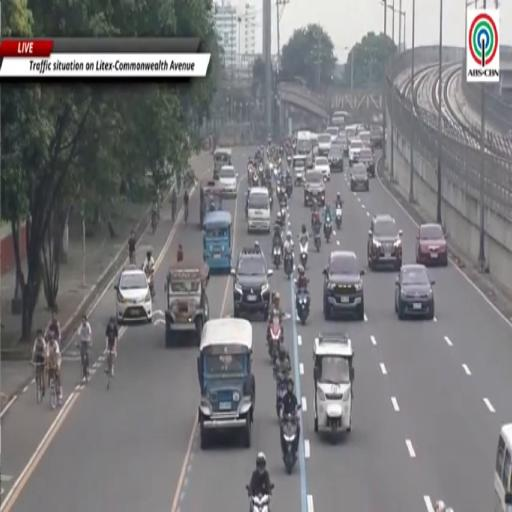car: (231, 247, 272, 321), (324, 250, 364, 319), (114, 266, 152, 323), (395, 264, 434, 319), (367, 215, 402, 269), (416, 223, 448, 265), (248, 187, 270, 232), (304, 170, 325, 206), (219, 166, 237, 197), (351, 164, 369, 191), (359, 148, 375, 177), (348, 139, 364, 166), (328, 144, 343, 171), (314, 156, 330, 181), (318, 133, 331, 156), (370, 125, 382, 148), (337, 132, 348, 156), (345, 125, 356, 146), (326, 126, 339, 143), (358, 131, 371, 148)
jeepney: (198, 318, 255, 449), (313, 333, 354, 434), (165, 261, 209, 347), (203, 211, 232, 271), (200, 179, 223, 229), (213, 148, 232, 180), (292, 155, 306, 184)
motorcycle: (281, 413, 297, 474), (268, 316, 283, 362), (276, 374, 287, 418), (296, 288, 309, 325), (249, 494, 270, 511), (146, 269, 155, 300), (284, 250, 293, 279), (300, 240, 308, 268), (273, 245, 281, 268), (324, 220, 332, 243), (314, 231, 322, 252), (276, 211, 285, 227), (336, 206, 342, 229), (276, 184, 283, 201), (286, 180, 292, 198), (248, 164, 254, 179), (280, 204, 286, 219), (252, 172, 258, 186), (287, 154, 292, 165), (270, 194, 273, 211), (258, 163, 263, 172)
